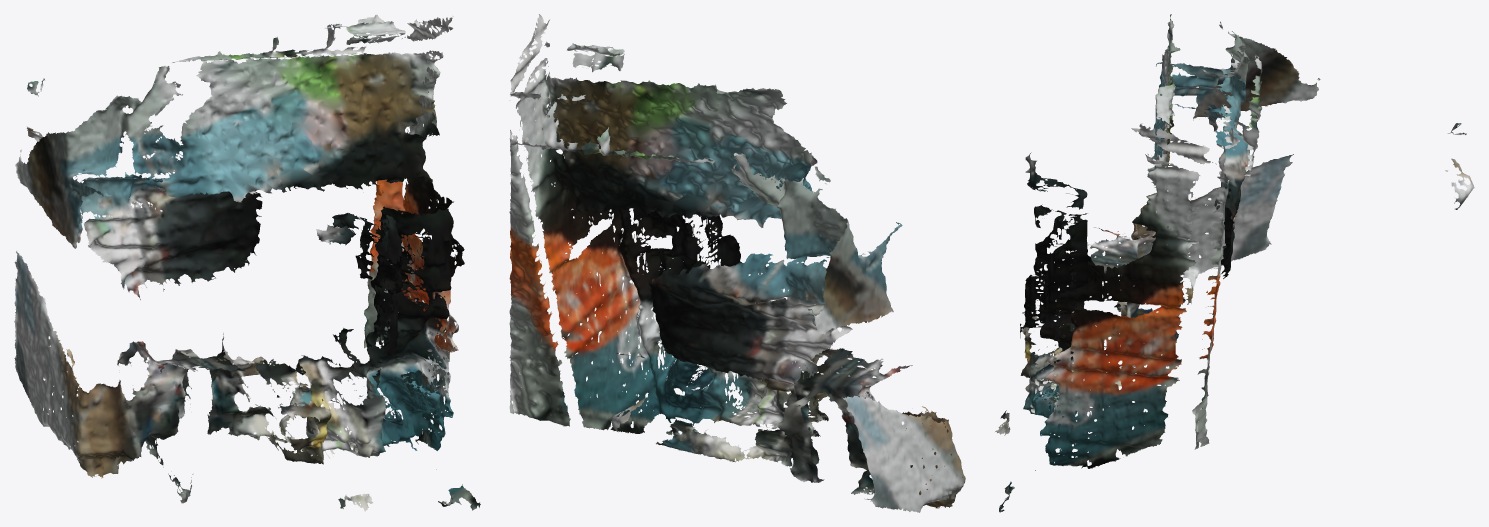
The model's file is color_model_f004_20251226_165915.obj.
3 renders of one model, left to right at view 1: azimuth 30°, elevation 25°; view 2: azimuth 150°, elevation 25°; view 3: azimuth 270°, elevation 25°, orthographic. The views are drawn at different scales.
Size of the model in its own units: 2.33 by 2.49 by 2.63.
